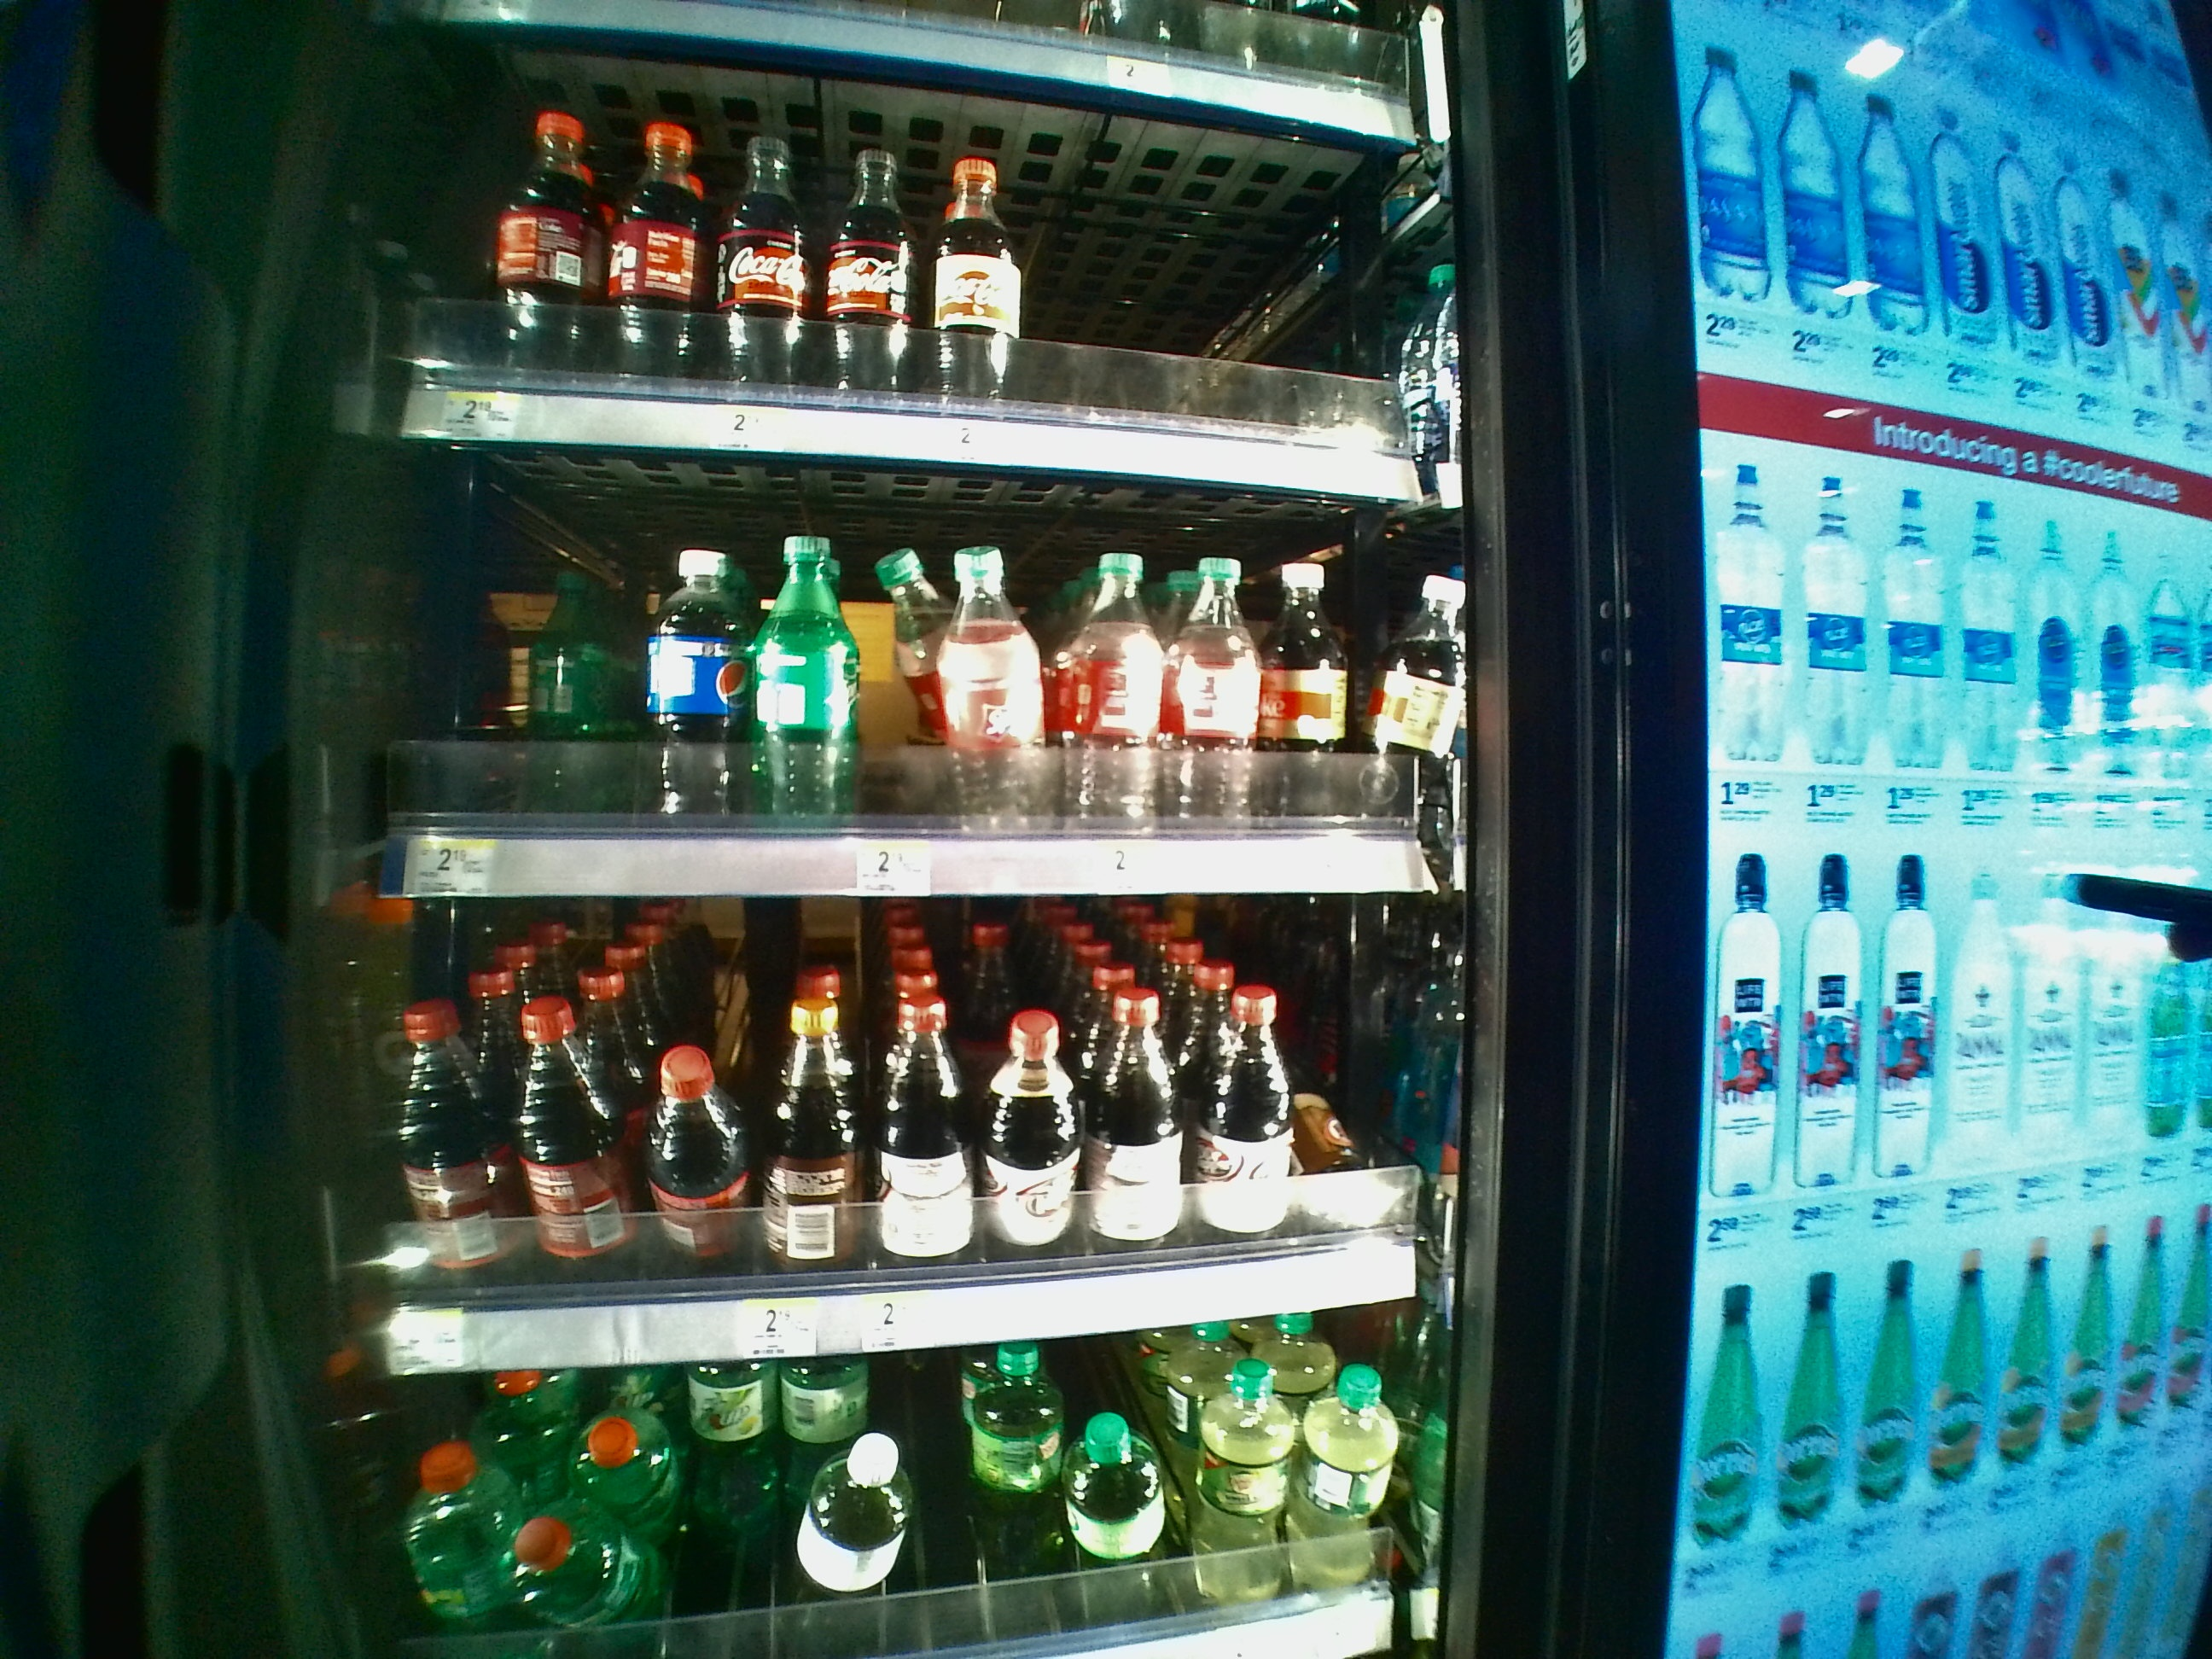shelf: (381, 903, 1447, 1368), (388, 446, 1447, 889)
